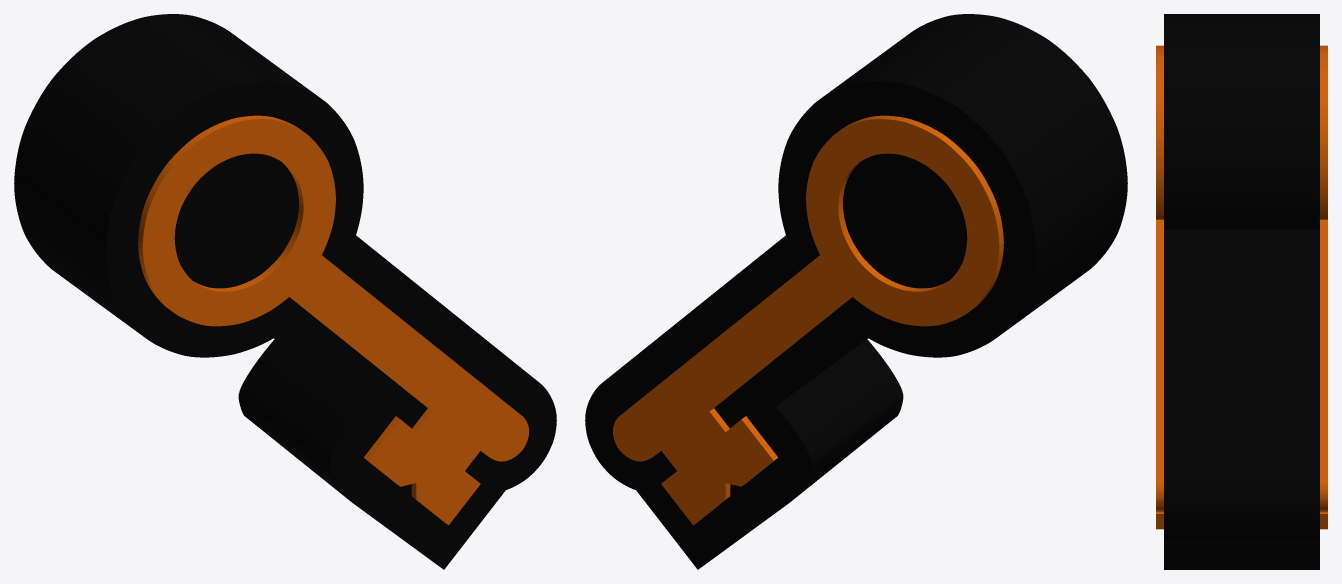
The picture shows the model from 3 angles, left to right: view 1: azimuth 30°, elevation 25°; view 2: azimuth 150°, elevation 25°; view 3: azimuth 270°, elevation 25°; orthographic projection. The views are drawn at different scales.
Visible parts, largest first — view 1: U+1F5DD_layer00_obj00, U+1F5DD_layer01_obj00; view 2: U+1F5DD_layer00_obj00, U+1F5DD_layer01_obj00; view 3: U+1F5DD_layer00_obj00, U+1F5DD_layer01_obj00.
Part boxes in pixels (<box>): U+1F5DD_layer00_obj00: <box>14,14,556,569</box>; U+1F5DD_layer01_obj00: <box>138,115,528,525</box>; U+1F5DD_layer00_obj00: <box>585,14,1127,569</box>; U+1F5DD_layer01_obj00: <box>613,115,1003,525</box>; U+1F5DD_layer00_obj00: <box>1164,14,1319,569</box>; U+1F5DD_layer01_obj00: <box>1156,45,1327,529</box>.
Bounding box in the file's own units: 0.5678 × 0.6456 × 0.22.
